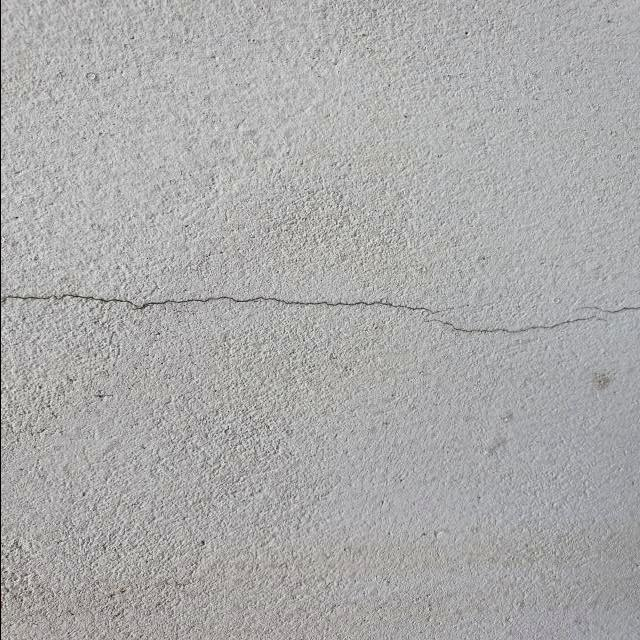SurfaceCrack: (1, 250, 640, 375)
